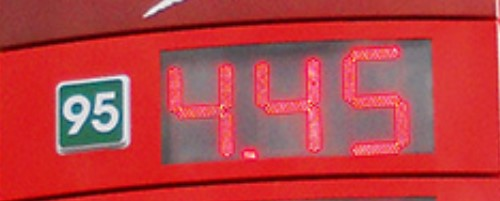digits: (337, 44, 414, 159), (163, 52, 238, 165), (249, 55, 327, 162)
